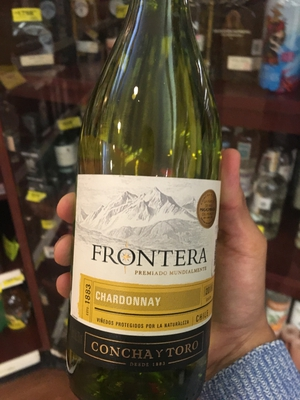frontera chardonnay: (67, 1, 219, 388)
